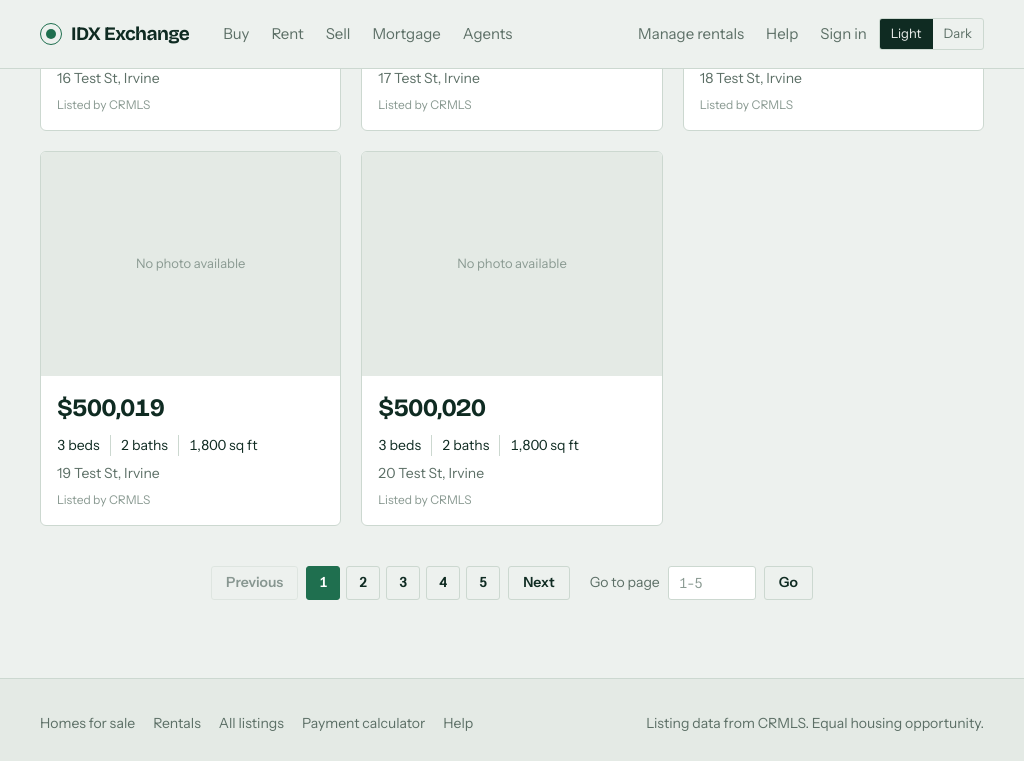
Scenario: ListingsPage pagination › changing filters while on a later page makes a single request for page 1
(page scrolled)
Step 1. Click the button named "Page 3" → [403, 583], box [386, 566, 420, 600]
(page scrolled)
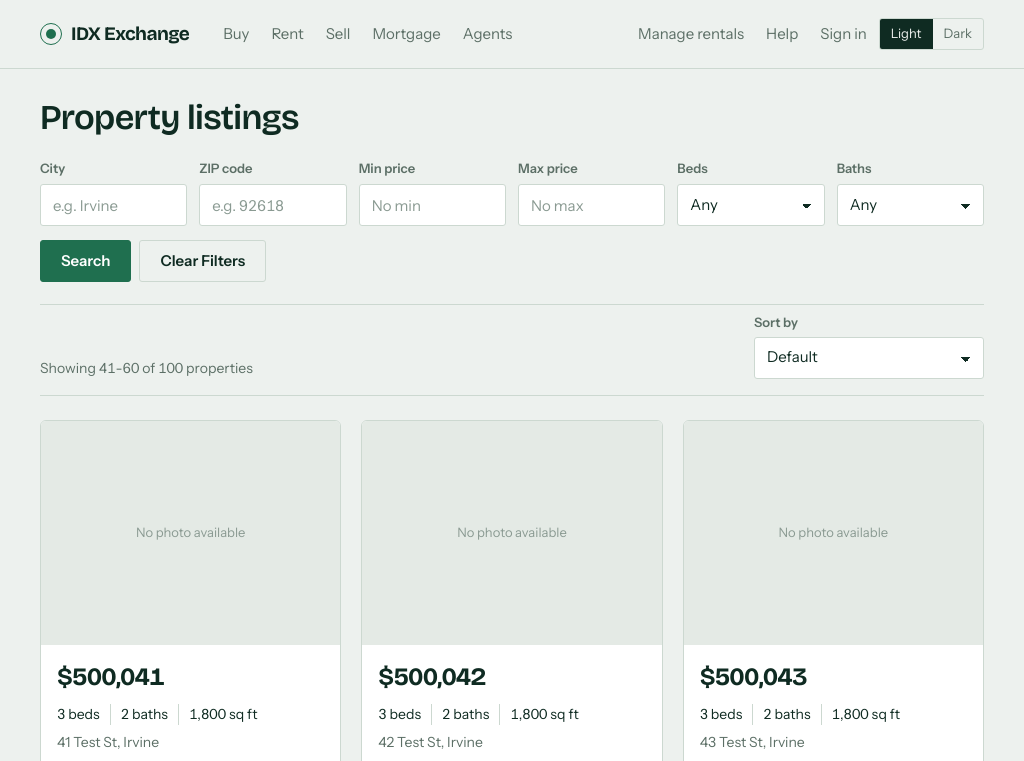
Expected: the text "Showing 41-60 of 100 properties" is shown, [40, 358, 253, 379]
Step 2. Type "Tustin" into the field labelled "City" → [114, 205], box [40, 184, 187, 226]
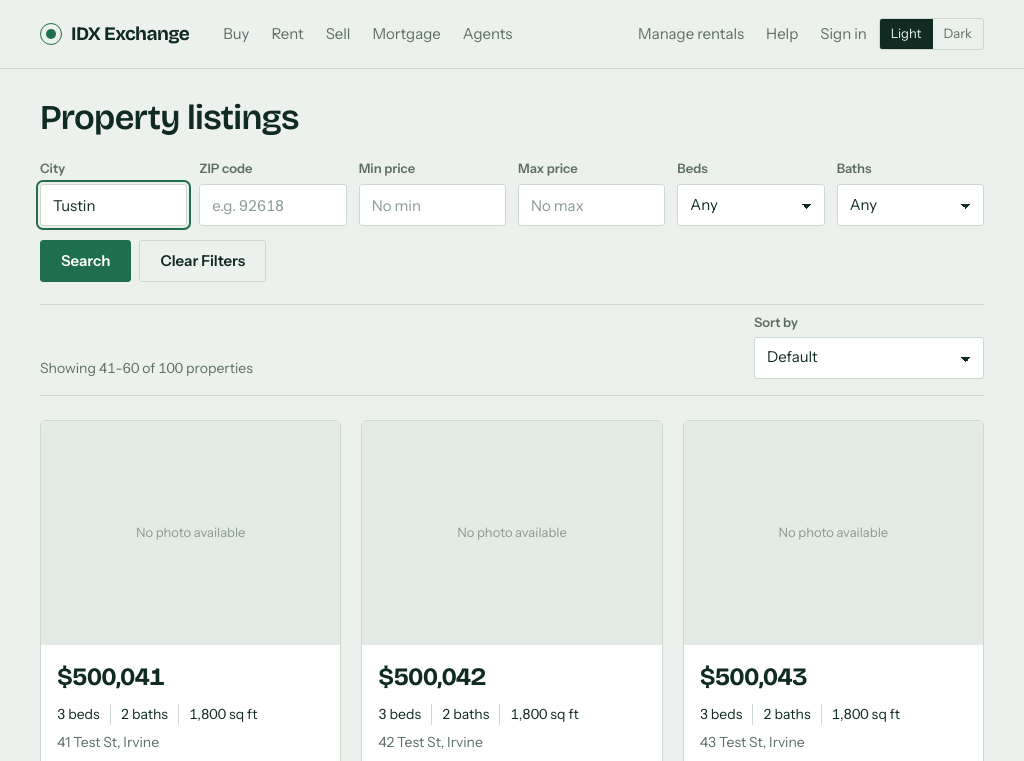
Step 3. Click the button "Search" → [86, 261], box [40, 240, 132, 282]
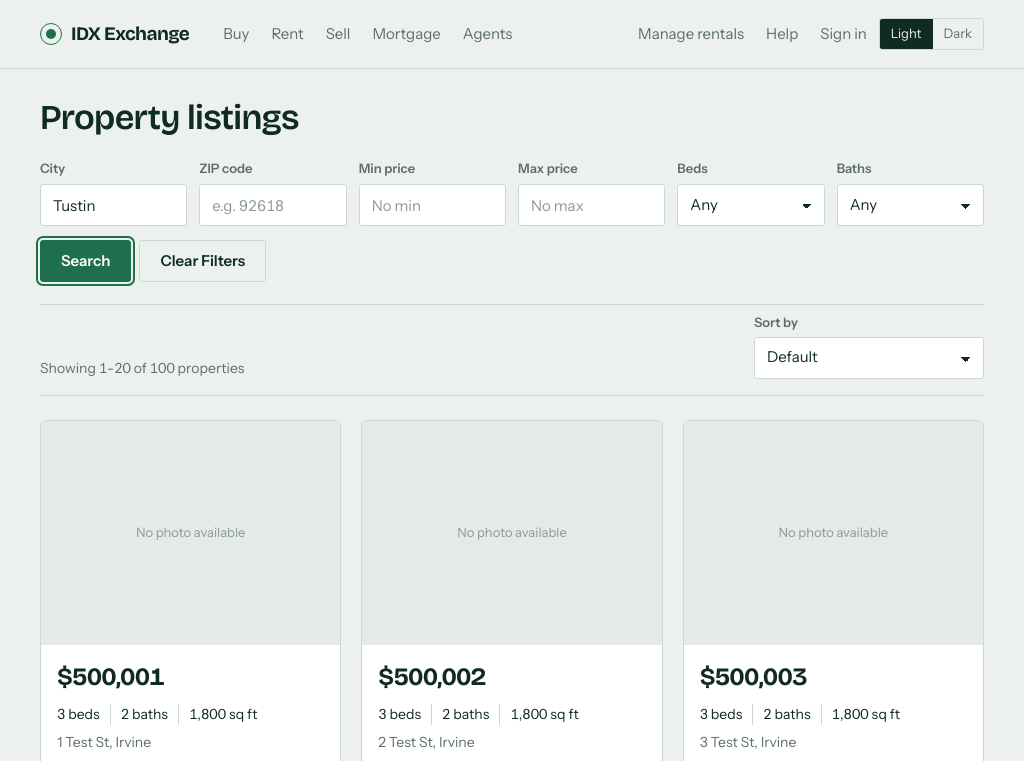
Expected: the text "Showing 1-20 of 100 properties" is shown, [40, 358, 244, 379]
